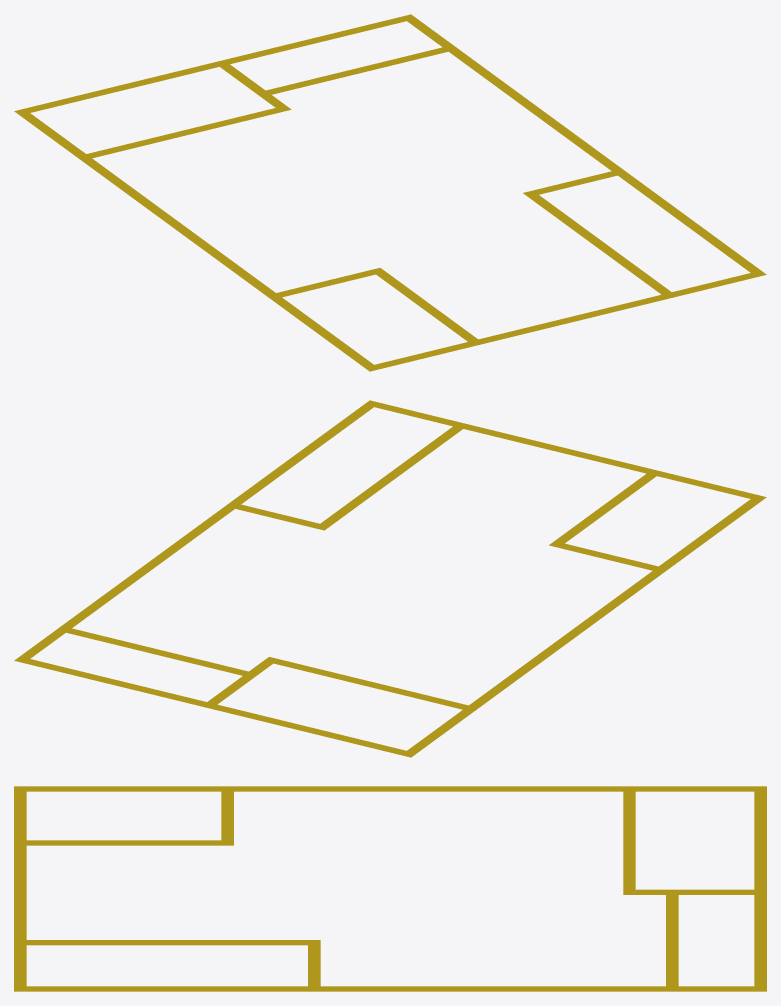
Rendered from CK_dimian_huangxian.FBX.
3 views of the same model, one above another, from view 1: azimuth 30°, elevation 25°; view 2: azimuth 150°, elevation 25°; view 3: azimuth 270°, elevation 25° (orthographic). The views are drawn at different scales.
Parts seen in each view (by area): view 1: CK_dimian_huangxian; view 2: CK_dimian_huangxian; view 3: CK_dimian_huangxian.
Part boxes in pixels (<box>): CK_dimian_huangxian: <box>14,14,766,371</box>; CK_dimian_huangxian: <box>14,400,766,757</box>; CK_dimian_huangxian: <box>14,786,766,991</box>.
Bounding box in the file's own units: 580 × 6.85e-06 × 900.
